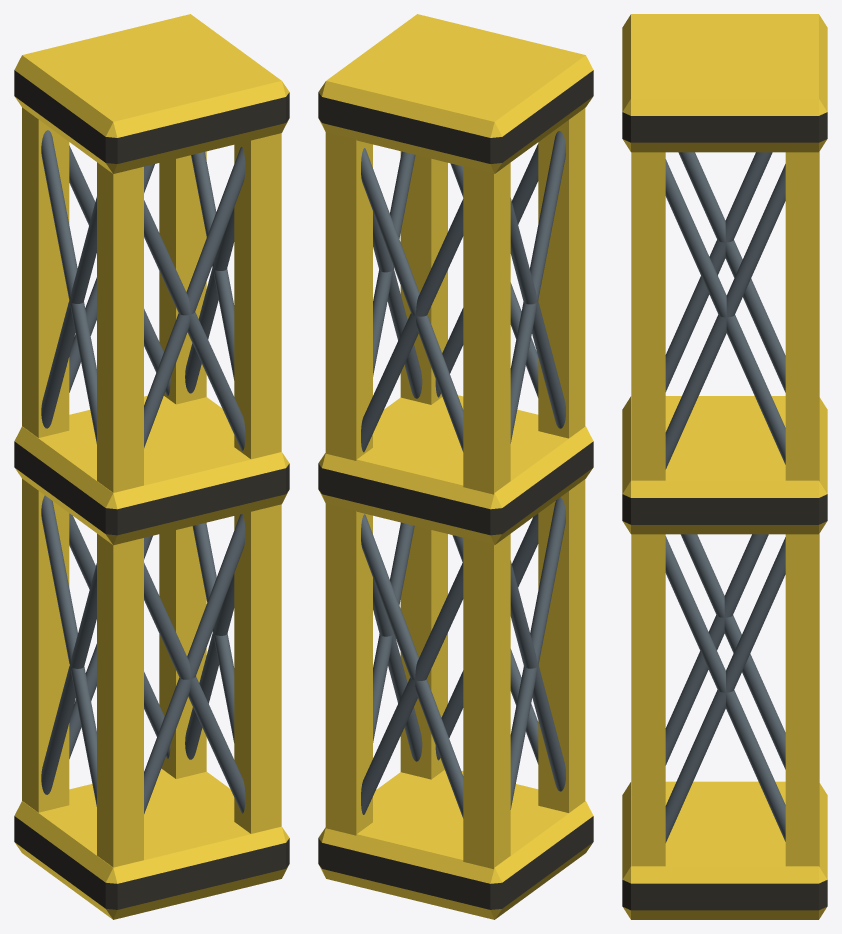
The model's file is Crain_Base.fbx.
The picture shows the model from 3 angles, left to right: view 1: azimuth 30°, elevation 25°; view 2: azimuth 150°, elevation 25°; view 3: azimuth 270°, elevation 25°; orthographic projection. The views are drawn at different scales.
Visible parts, largest first — view 1: Crane_Base; view 2: Crane_Base; view 3: Crane_Base.
Boxes of the visible parts, <box> form: Crane_Base: <box>14,14,289,919</box>; Crane_Base: <box>318,14,593,919</box>; Crane_Base: <box>622,14,827,919</box>.
Size of the model in its own units: 3.69 by 15.29 by 3.46.
